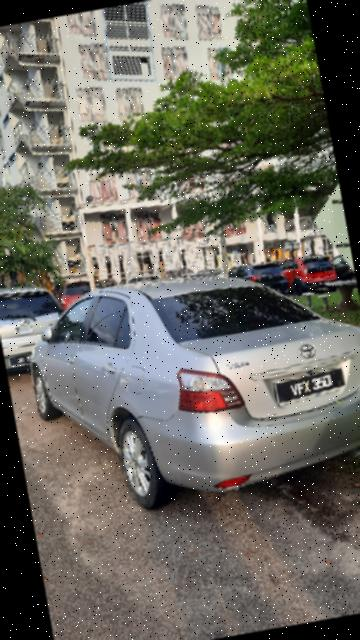License_Plate: (273, 361, 355, 404)
car: (21, 243, 360, 526)
